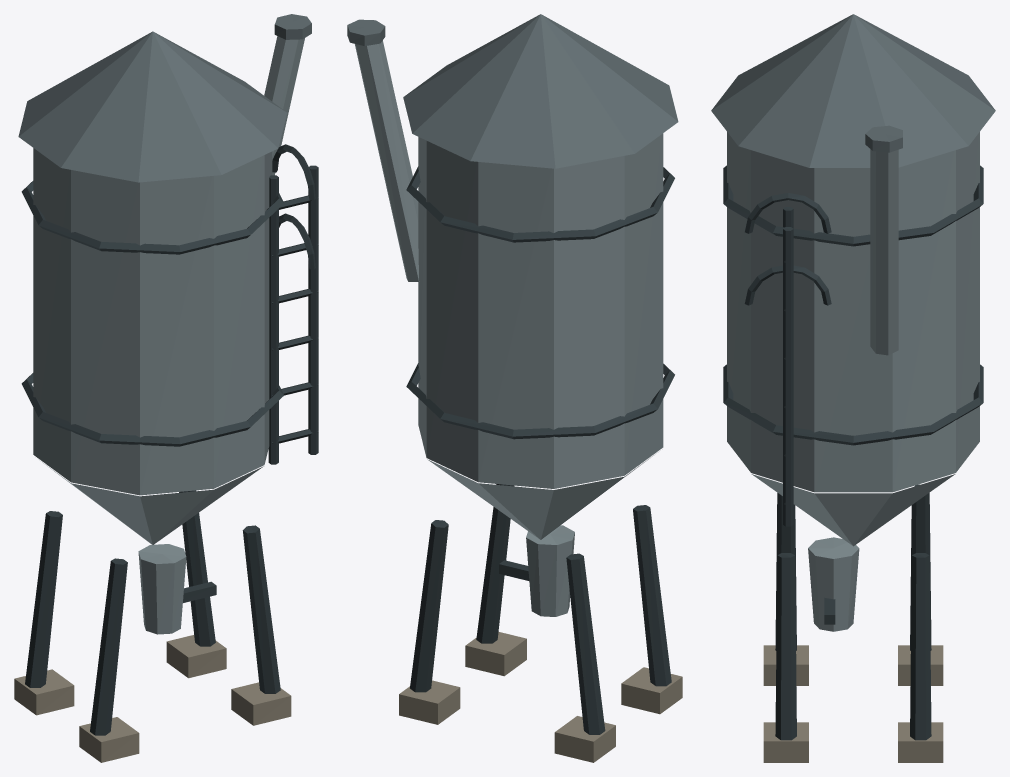
Rendered from Silo.glb.
3 renders of one model, left to right at view 1: azimuth 30°, elevation 25°; view 2: azimuth 150°, elevation 25°; view 3: azimuth 270°, elevation 25°, orthographic. The views are drawn at different scales.
Visible parts, largest first — view 1: wind-pump-static-silo-galvanized, wind-pump-static-silo-roof, wind-pump-static-silo-dark-steel, wind-pump-static-silo-stone-feet; view 2: wind-pump-static-silo-galvanized, wind-pump-static-silo-roof, wind-pump-static-silo-dark-steel, wind-pump-static-silo-stone-feet; view 3: wind-pump-static-silo-galvanized, wind-pump-static-silo-roof, wind-pump-static-silo-dark-steel, wind-pump-static-silo-stone-feet.
Boxes of the visible parts, box(x1,y1,x2,y2) form: wind-pump-static-silo-galvanized: box(33, 36, 304, 634); wind-pump-static-silo-roof: box(18, 14, 311, 182); wind-pump-static-silo-dark-steel: box(21, 144, 318, 735); wind-pump-static-silo-stone-feet: box(14, 635, 291, 762); wind-pump-static-silo-galvanized: box(355, 40, 663, 616); wind-pump-static-silo-roof: box(347, 14, 678, 168); wind-pump-static-silo-dark-steel: box(406, 166, 674, 734); wind-pump-static-silo-stone-feet: box(399, 632, 682, 762); wind-pump-static-silo-galvanized: box(727, 132, 979, 631); wind-pump-static-silo-roof: box(711, 14, 995, 167); wind-pump-static-silo-dark-steel: box(723, 165, 983, 740); wind-pump-static-silo-stone-feet: box(763, 645, 943, 762).
Size of the model in its own units: 1.73 by 3.91 by 1.44.
